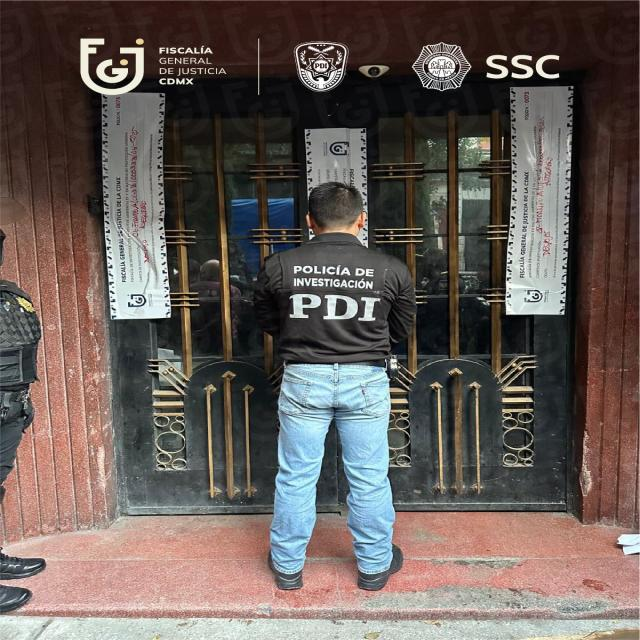stamps: (104, 96, 172, 318), (505, 86, 571, 314), (305, 128, 367, 211)
